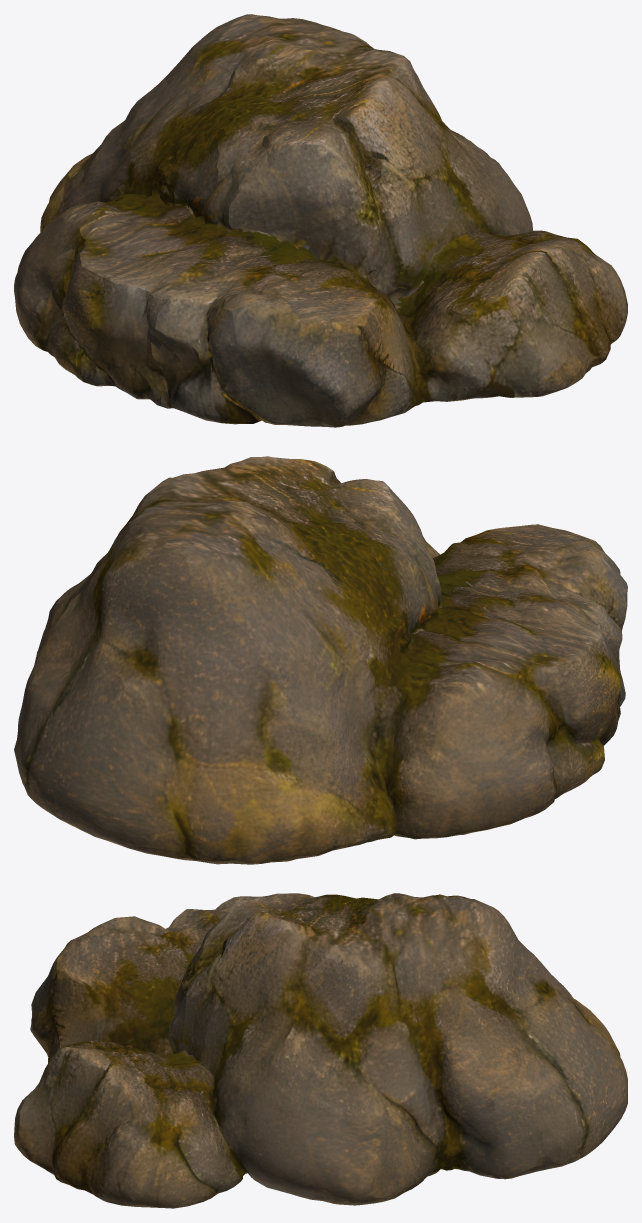
File: mossy-rock.glb
3 views of the same model, one above another, from view 1: azimuth 30°, elevation 25°; view 2: azimuth 150°, elevation 25°; view 3: azimuth 270°, elevation 25° (orthographic). The views are drawn at different scales.
Visible parts, largest first — view 1: painted; view 2: painted; view 3: painted.
Boxes of the visible parts, x1,y1,x2,y2 form: painted: (14, 14, 627, 427); painted: (14, 456, 627, 864); painted: (14, 893, 627, 1208).
Bounding box in the file's own units: 1.72 × 0.7833 × 1.99.
1 material, 1 textured.
